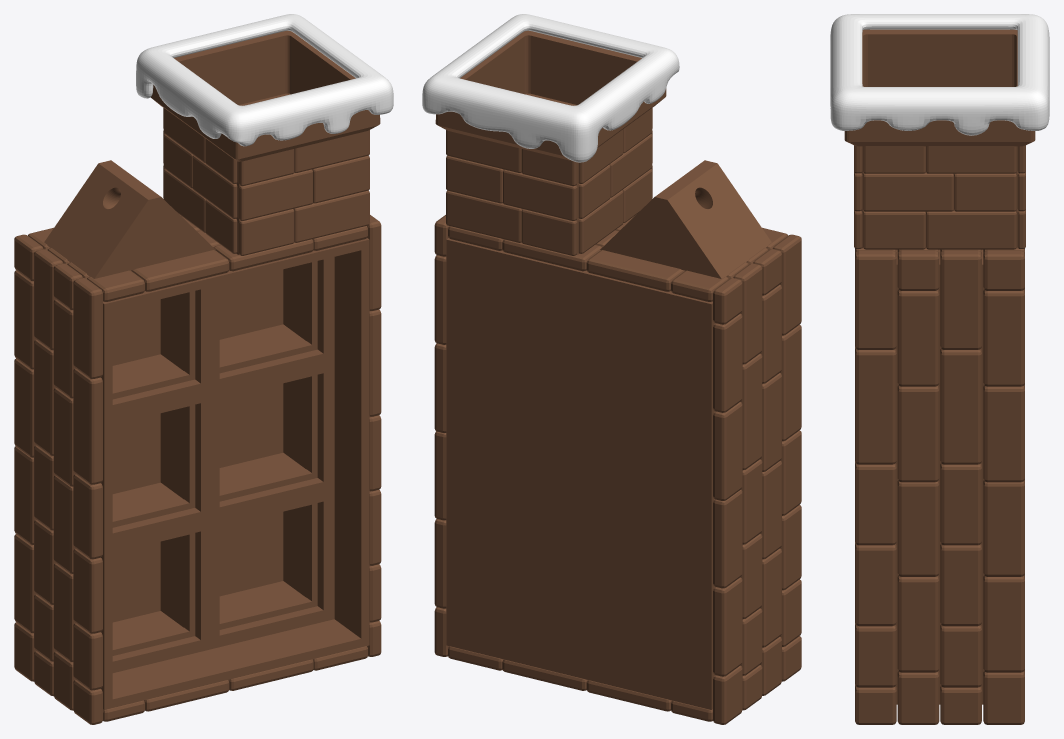
File: cm_case.glb
The picture shows the model from 3 angles, left to right: view 1: azimuth 30°, elevation 25°; view 2: azimuth 150°, elevation 25°; view 3: azimuth 270°, elevation 25°; orthographic projection. The views are drawn at different scales.
Parts seen in each view (by area): view 1: Cube.067, Cube.066, Cube.099, Cube.094, Cube.051, Cube.063, Cube.077, Cube.078, Cube.086, Cube.093; view 2: Cube.067, Cube.066, Cube.099, Cube.094, Cube.051, Cube.063, Cube.077, Cube.078, Cube.086, Cube.093; view 3: Cube.066, Cube.099, Cube.051, Cube.078, Cube.093, Cube.067, Cube.077, Cube.086, Cube.063.
Boxes of the visible parts, box(x1,y1,x2,y2) form: Cube.067: box(101, 238, 369, 709); Cube.066: box(14, 215, 381, 724); Cube.099: box(136, 14, 393, 146); Cube.094: box(44, 160, 215, 278); Cube.051: box(151, 30, 380, 254); Cube.063: box(28, 214, 367, 721); Cube.077: box(163, 131, 369, 255); Cube.078: box(163, 134, 237, 253); Cube.086: box(163, 108, 369, 186); Cube.093: box(163, 108, 237, 183); Cube.067: box(446, 238, 714, 709); Cube.066: box(434, 215, 801, 724); Cube.099: box(422, 14, 679, 162); Cube.094: box(600, 160, 771, 278); Cube.051: box(435, 30, 666, 254); Cube.063: box(448, 214, 787, 721); Cube.077: box(446, 131, 652, 255); Cube.078: box(578, 134, 652, 253); Cube.086: box(446, 108, 652, 186); Cube.093: box(578, 108, 652, 183); Cube.066: box(855, 250, 1024, 724); Cube.099: box(830, 14, 1049, 135); Cube.051: box(844, 29, 1035, 248); Cube.078: box(863, 172, 1016, 249); Cube.093: box(863, 146, 1016, 173); Cube.067: box(855, 249, 1024, 704); Cube.077: box(854, 171, 1025, 248); Cube.086: box(854, 145, 1025, 173); Cube.063: box(855, 248, 1024, 253).
Bounding box in the file's own units: 44.93 × 84.19 × 26.51.
